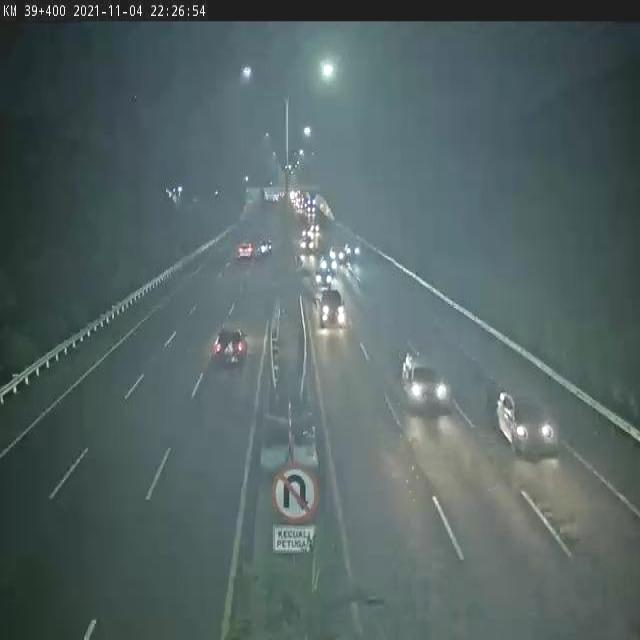Car: (498, 381, 558, 464), (401, 357, 456, 418), (308, 284, 356, 340), (215, 324, 253, 368), (236, 234, 258, 262), (258, 233, 276, 261)
